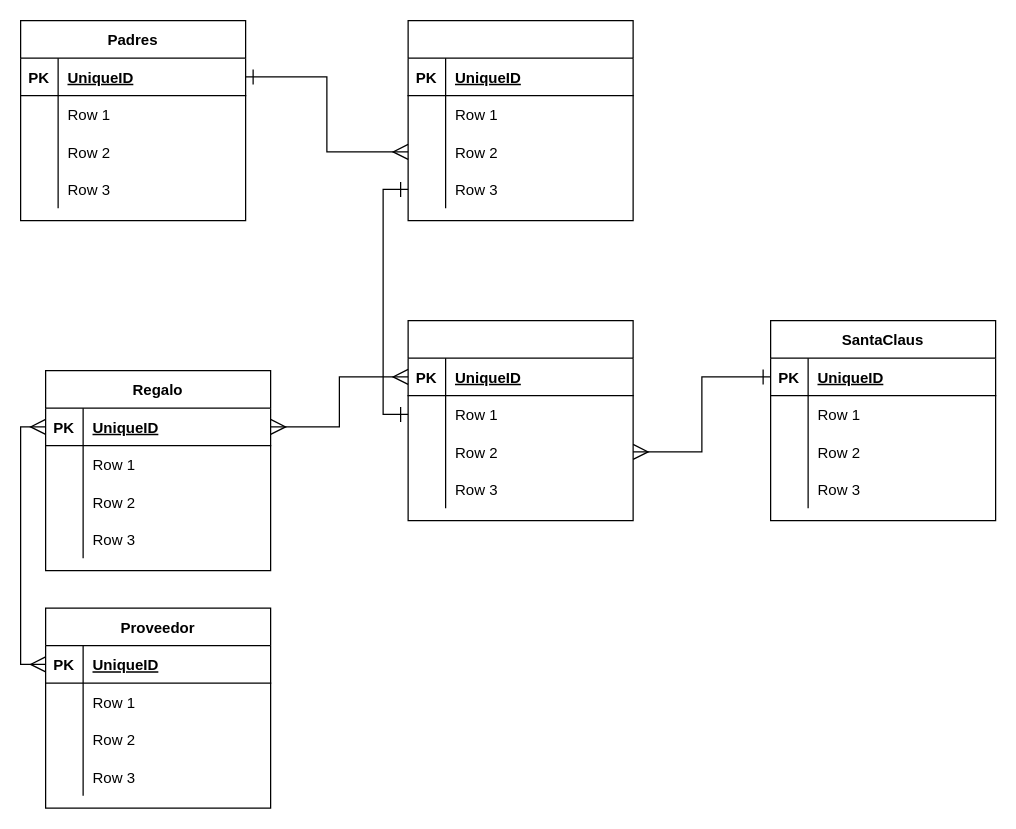
This 1016x829 diagram has some shape labels left out. Each missing label, with the box of its shape:
Carta: (407, 319, 633, 521)
Hijo: (407, 19, 633, 221)
